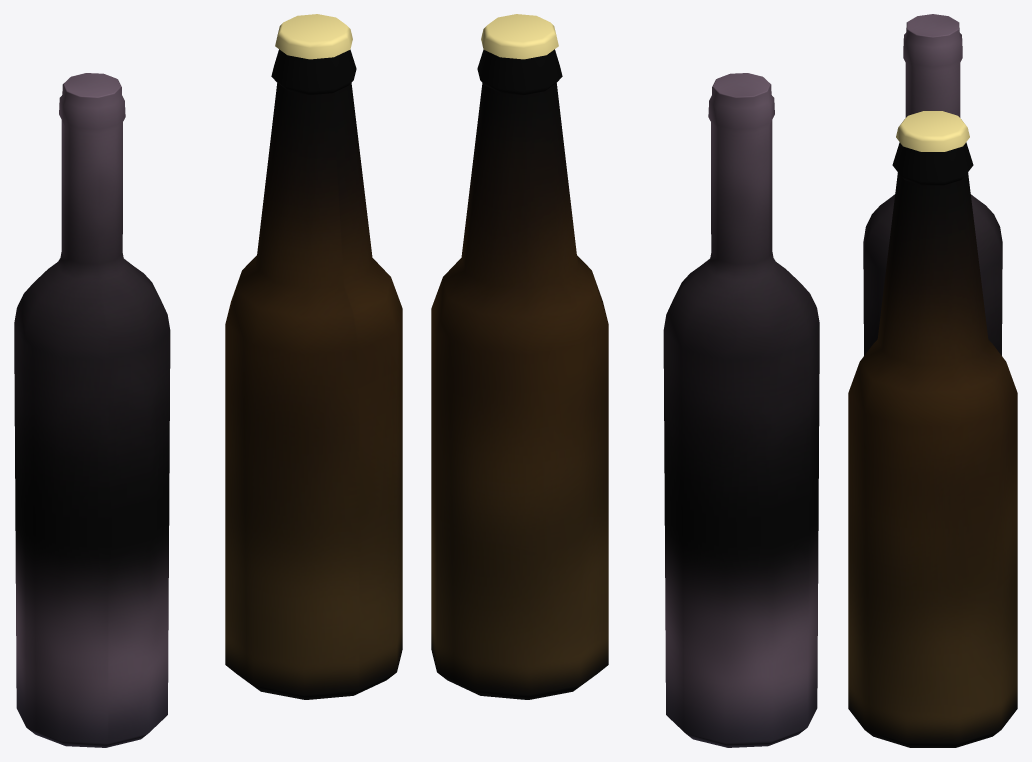
File: bottles.glb
The picture shows the model from 3 angles, left to right: view 1: azimuth 30°, elevation 25°; view 2: azimuth 150°, elevation 25°; view 3: azimuth 270°, elevation 25°; orthographic projection. The views are drawn at different scales.
Parts seen in each view (by area): view 1: Beer_Bottles_Body, Wine_Bottle, Beer_Bottles_Cap; view 2: Beer_Bottles_Body, Wine_Bottle, Beer_Bottles_Cap; view 3: Beer_Bottles_Body, Wine_Bottle, Beer_Bottles_Cap.
Part boxes in pixels (left/top/right/bottom): Beer_Bottles_Body: left=225, top=49, right=402, bottom=699; Wine_Bottle: left=14, top=73, right=170, bottom=747; Beer_Bottles_Cap: left=275, top=14, right=352, bottom=59; Beer_Bottles_Body: left=431, top=49, right=608, bottom=699; Wine_Bottle: left=663, top=73, right=819, bottom=747; Beer_Bottles_Cap: left=481, top=14, right=558, bottom=59; Beer_Bottles_Body: left=848, top=142, right=1017, bottom=747; Wine_Bottle: left=863, top=14, right=1002, bottom=355; Beer_Bottles_Cap: left=896, top=111, right=969, bottom=151.
Size of the model in its own units: 0.1672 by 0.28 by 0.0721.
Materials: 1 (1 with a texture image).
